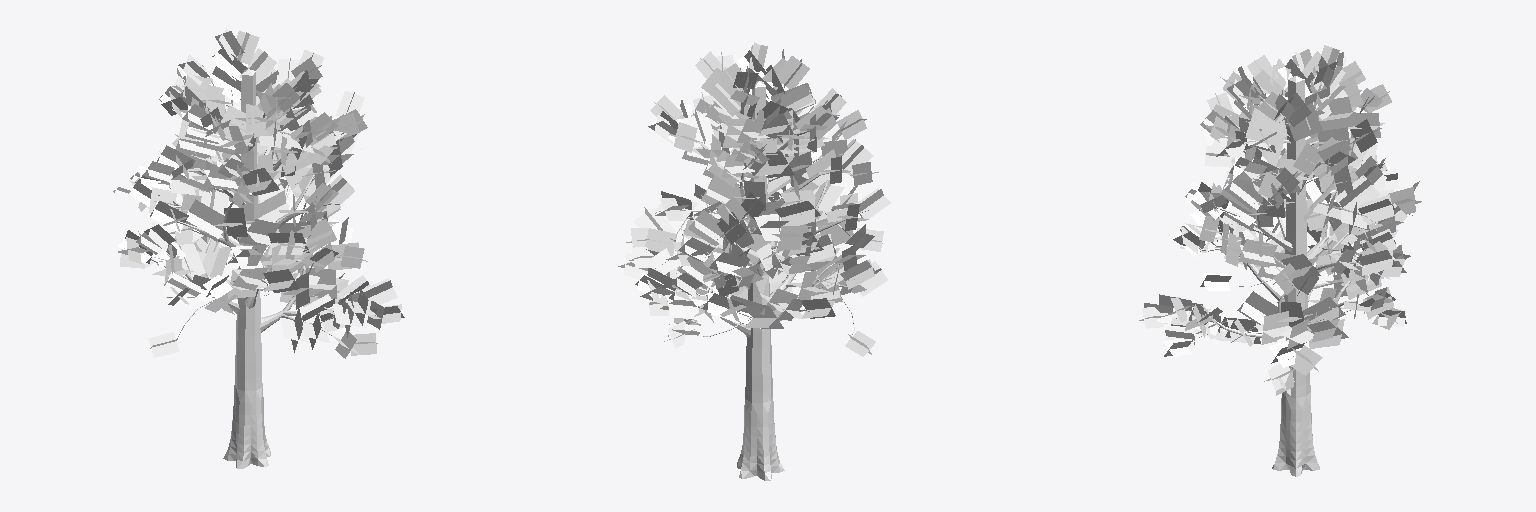
The model's file is tree_beech_01.obj.
3 views of the same model, side by side, from view 1: azimuth 30°, elevation 25°; view 2: azimuth 150°, elevation 25°; view 3: azimuth 270°, elevation 25° (orthographic).
Parts seen in each view (by area): view 1: tree; view 2: tree; view 3: tree.
Boxes of the visible parts, x1=… form: tree: x1=113, y1=28, x2=404, y2=468; tree: x1=618, y1=42, x2=890, y2=480; tree: x1=1139, y1=45, x2=1423, y2=476.
Size of the model in its own units: 18.05 by 29.28 by 18.26.